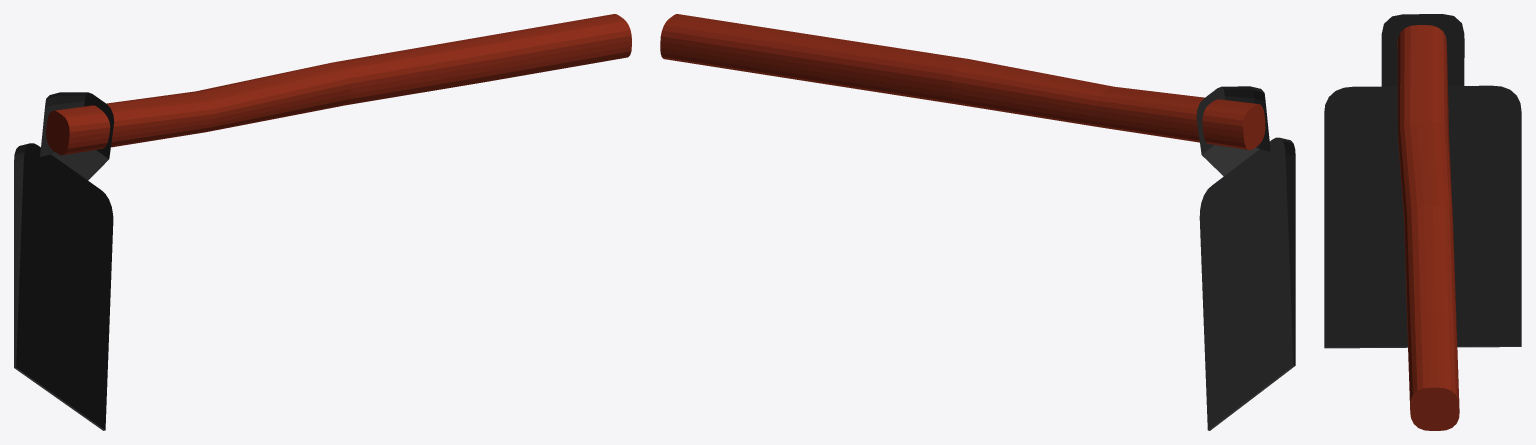
Rendered from cangkul.glb.
3 views of the same model, side by side, from view 1: azimuth 30°, elevation 25°; view 2: azimuth 150°, elevation 25°; view 3: azimuth 270°, elevation 25° (orthographic). The views are drawn at different scales.
Visible parts, largest first — view 1: cangkul; view 2: cangkul; view 3: cangkul.
Boxes of the visible parts, box(x1,y1,x2,y2) form: cangkul: box(14, 14, 631, 430); cangkul: box(660, 14, 1295, 430); cangkul: box(1324, 14, 1521, 430).
Size of the model in its own units: 1.19 by 0.5895 by 0.3149.
